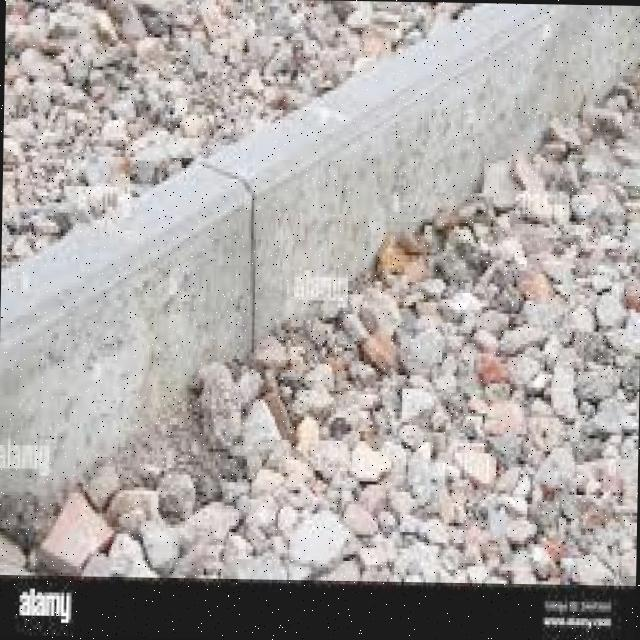curb: (1, 158, 235, 490), (211, 58, 388, 318), (403, 3, 640, 179)
